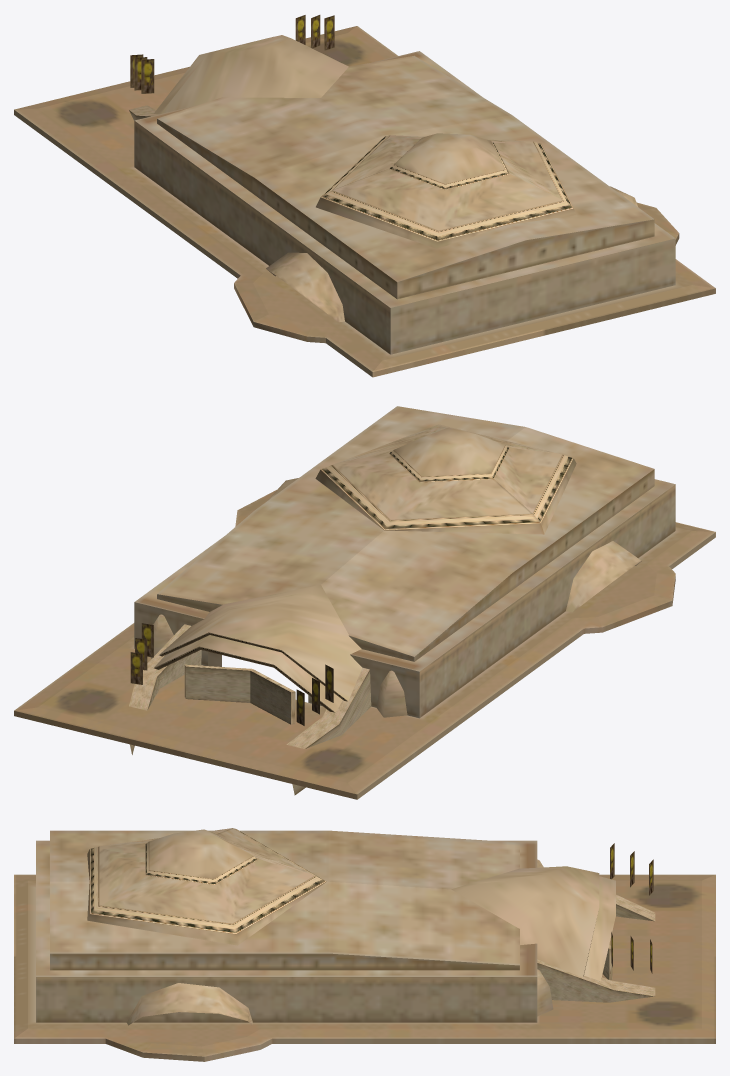
The model's file is mun_tato_guild_theater_s01_r0_mesh_l3.fbx.
3 renders of one model, top to bottom at view 1: azimuth 30°, elevation 25°; view 2: azimuth 150°, elevation 25°; view 3: azimuth 270°, elevation 25°, orthographic. The views are drawn at different scales.
Parts seen in each view (by area): view 1: mesh_node; view 2: mesh_node; view 3: mesh_node.
Boxes of the visible parts, box(x1,y1,x2,y2) form: mesh_node: box(14, 15, 715, 377); mesh_node: box(14, 406, 715, 799); mesh_node: box(14, 828, 715, 1061).
Bounding box in the file's own units: 81.75 × 30.29 × 121.
1 material, 1 textured.
